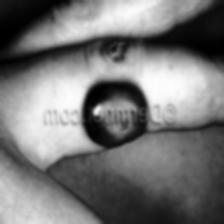Toxin: (80, 122, 148, 152), (85, 80, 145, 106), (96, 38, 130, 64)
